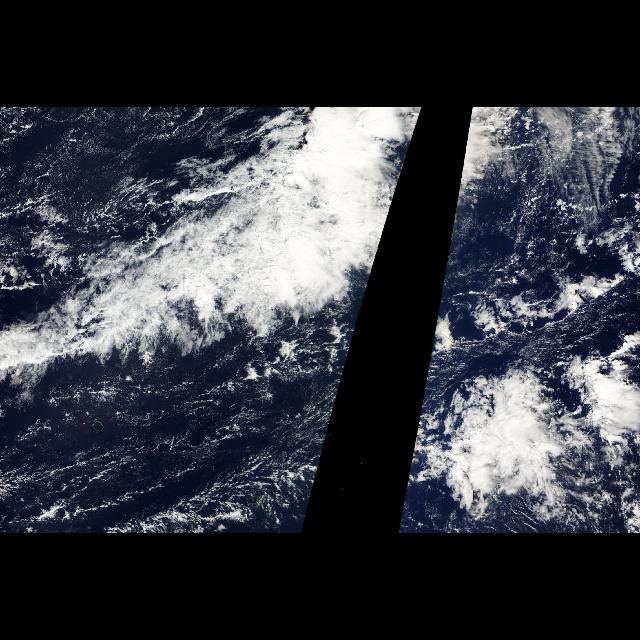Gravel: (68, 366, 306, 522)
Sugar: (13, 110, 207, 238)
